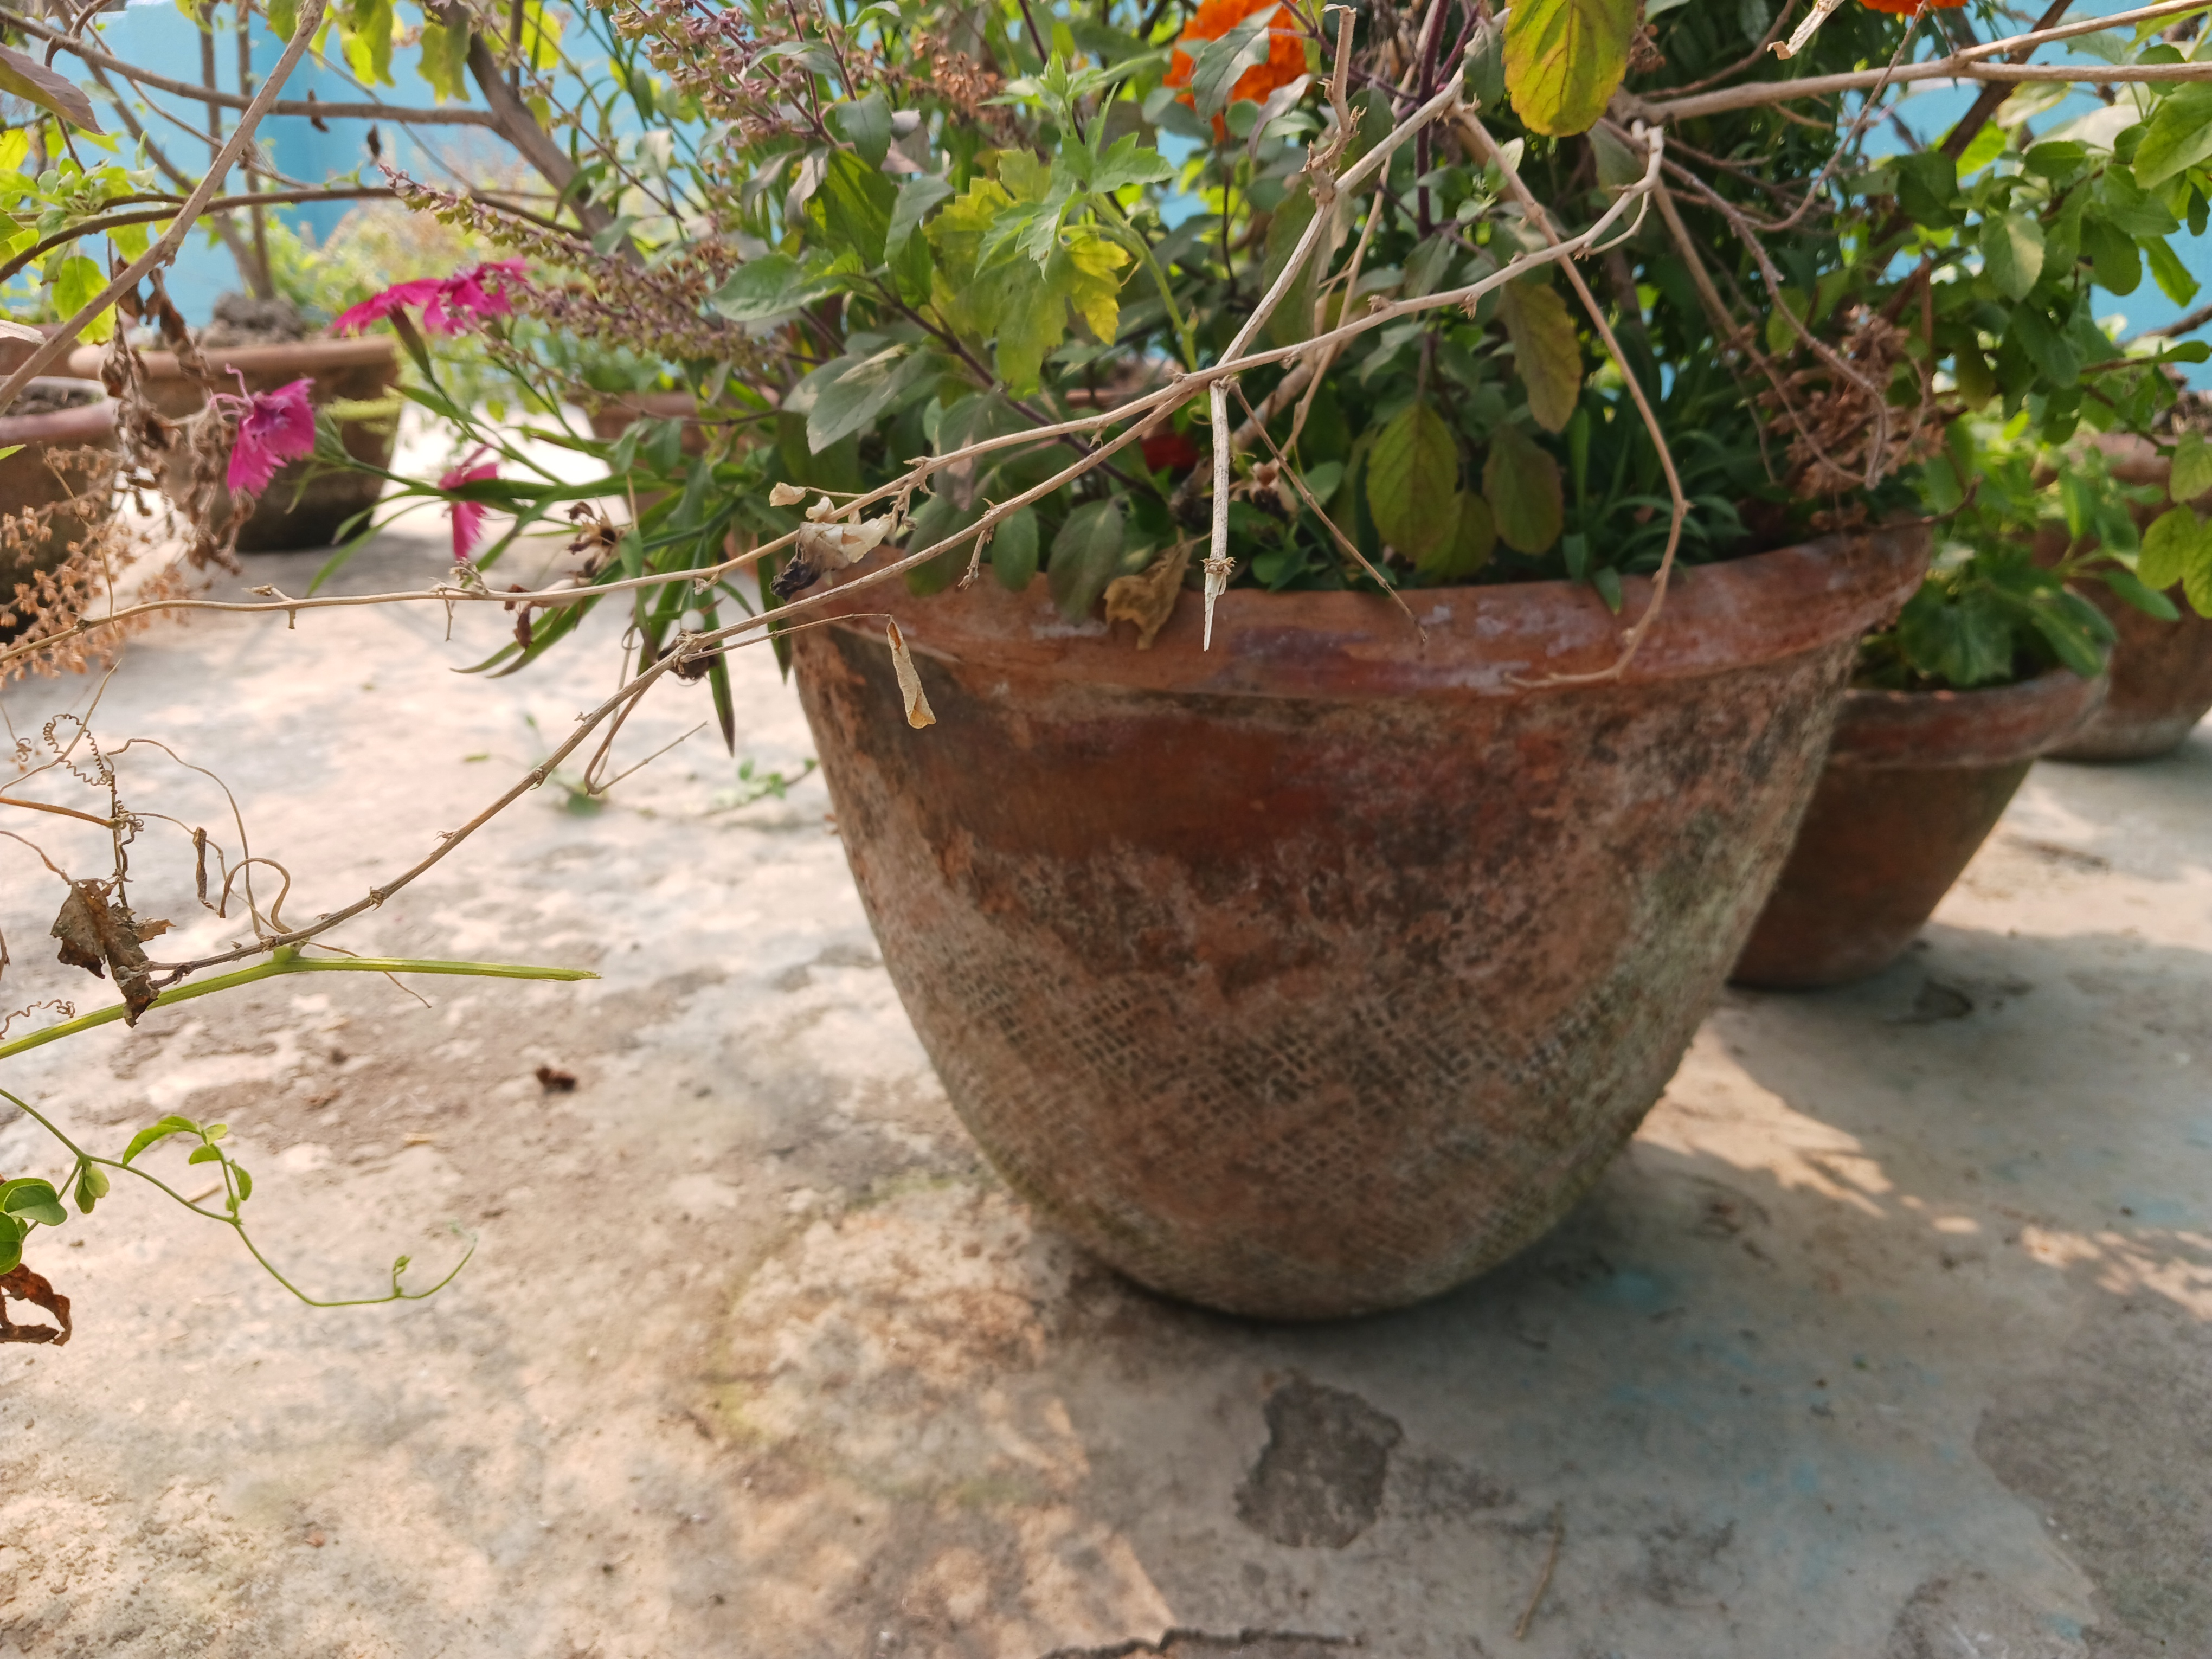Pot: (805, 565, 1738, 1293), (1782, 599, 2031, 957), (113, 303, 409, 558), (2080, 488, 2207, 751), (10, 350, 117, 620)
